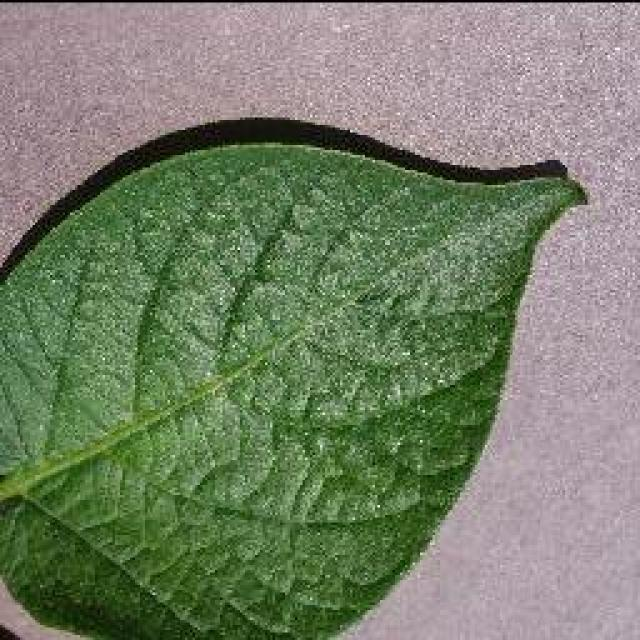Potato___healthy: (0, 141, 591, 638)
